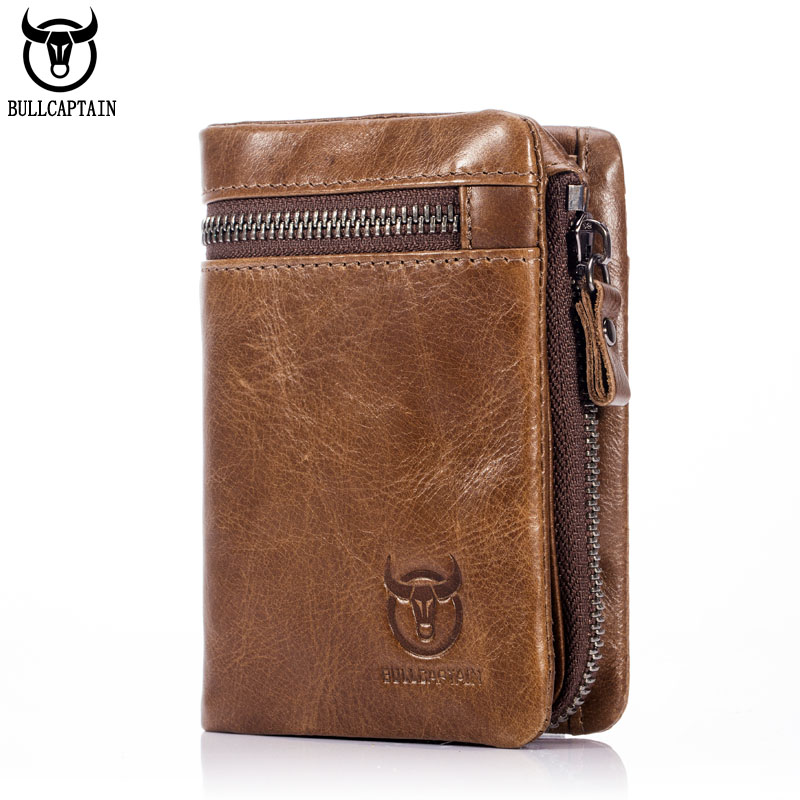monedero: (197, 107, 638, 752)
